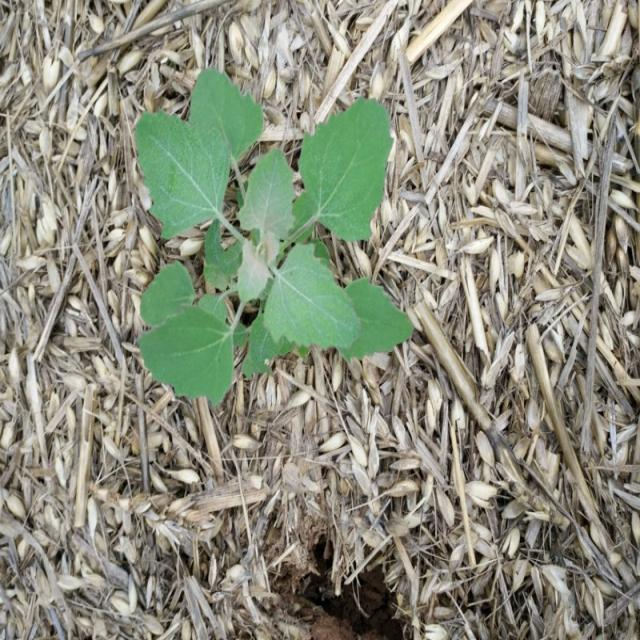goosefoots: (59, 70, 424, 376)
